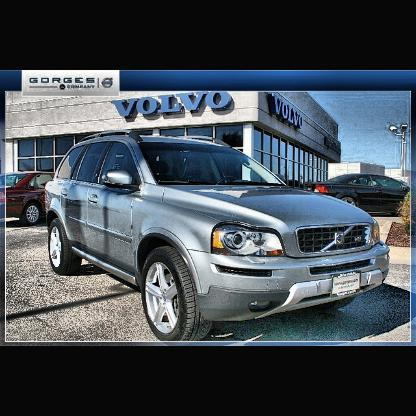Volvo XC90 SUV 2007: (44, 130, 395, 343)
